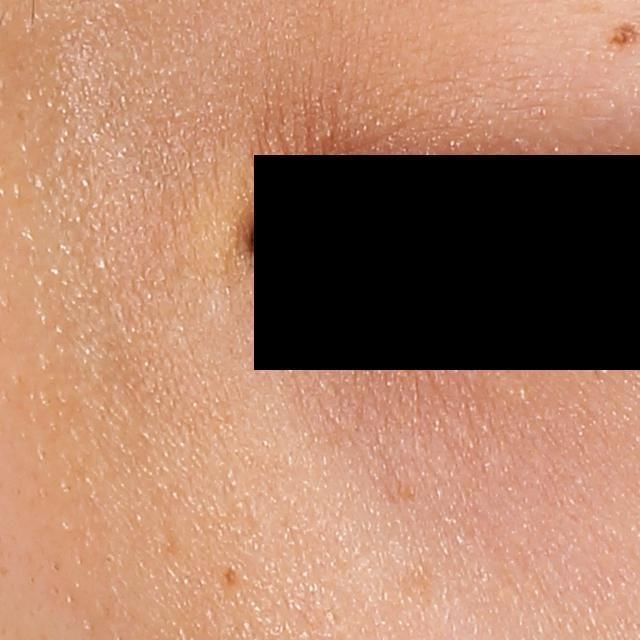melasma: (400, 559, 443, 608)
